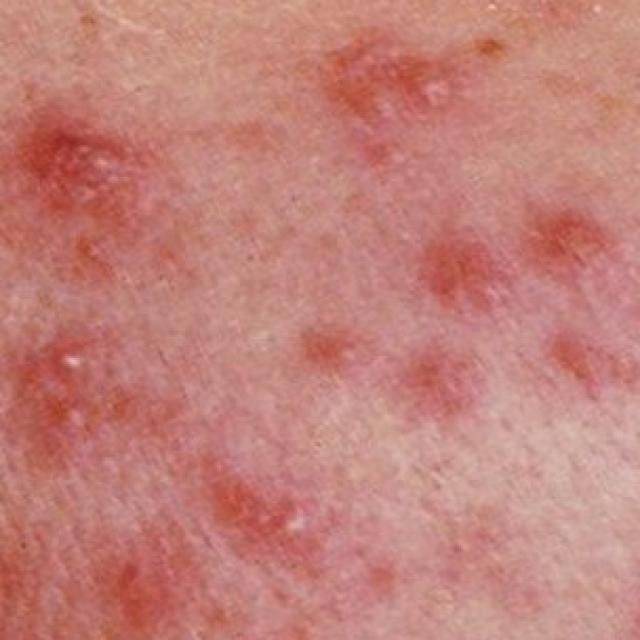acne: (290, 198, 636, 438), (0, 463, 352, 640), (1, 312, 214, 464), (1, 105, 172, 274), (328, 28, 484, 160)
